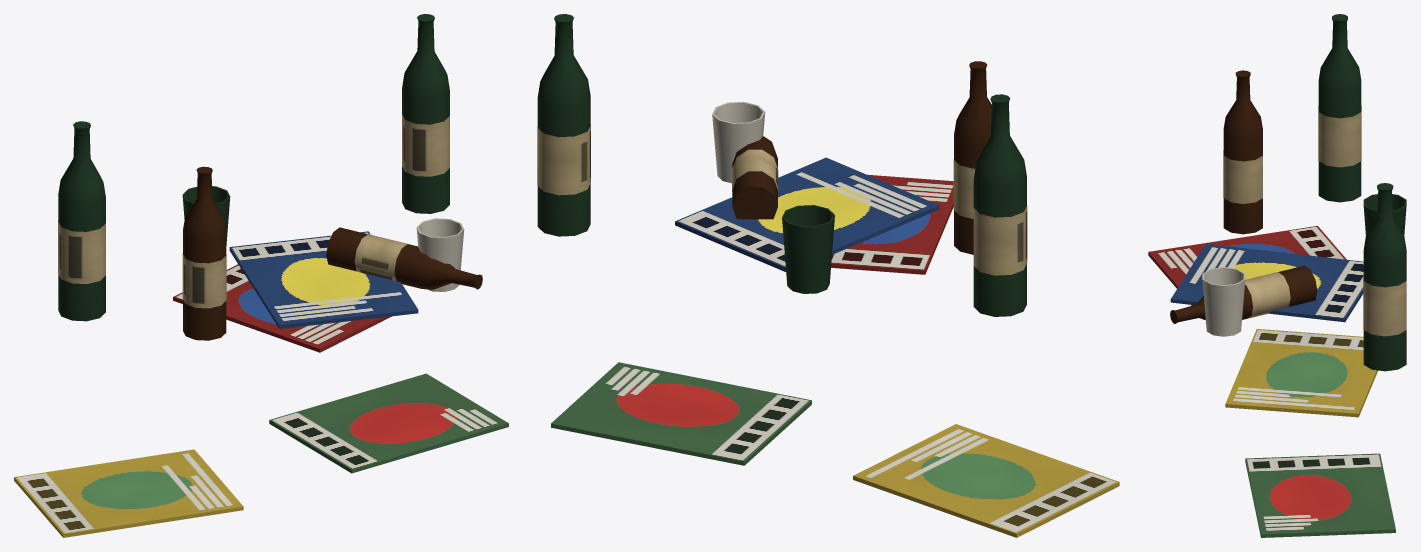
Rendered from Clutter_CoffeeTable.fbx.
The picture shows the model from 3 angles, left to right: view 1: azimuth 30°, elevation 25°; view 2: azimuth 150°, elevation 25°; view 3: azimuth 270°, elevation 25°; orthographic projection. The views are drawn at different scales.
Parts seen in each view (by area): view 1: Clutter_CoffeeTable; view 2: Clutter_CoffeeTable; view 3: Clutter_CoffeeTable.
Boxes of the visible parts, x1,y1,x2,y2 form: Clutter_CoffeeTable: [14, 14, 508, 537]; Clutter_CoffeeTable: [537, 14, 1119, 537]; Clutter_CoffeeTable: [1148, 14, 1406, 537].
Size of the model in its own units: 0.7615 by 0.588 by 0.4011.
